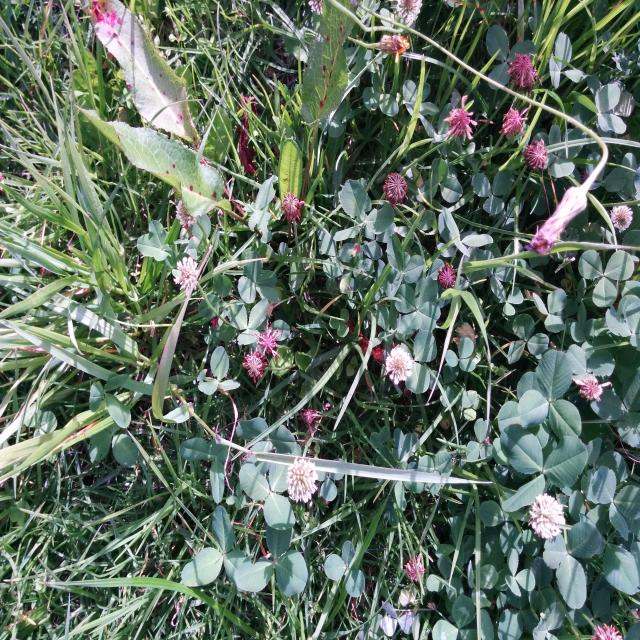Four Leaf Clover: (394, 280, 441, 335), (237, 251, 279, 304)
